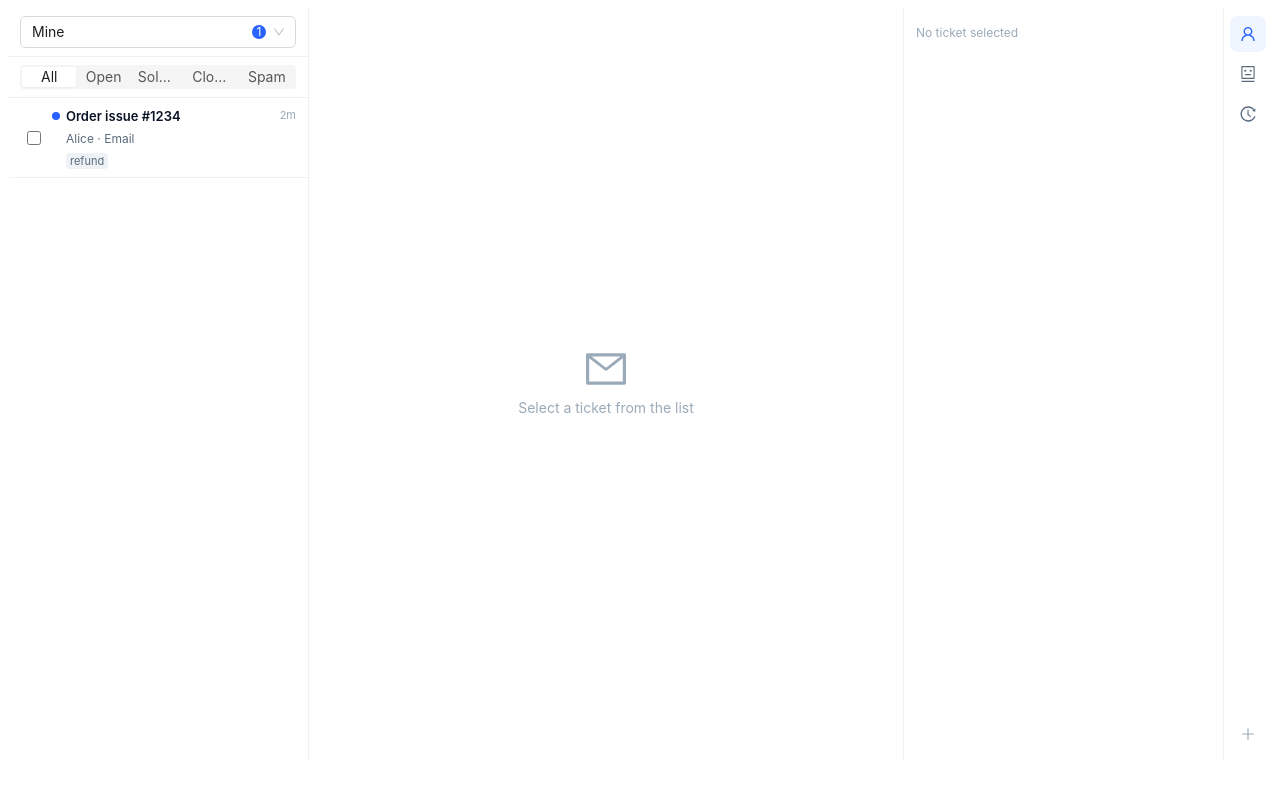
Test: InboxPage (3-column) › AI draft: shows suspended note when aiSuspended
The image size is (1280, 800).
Click the text "Order issue #1234".
click(123, 116)  # box [66,108,181,124]
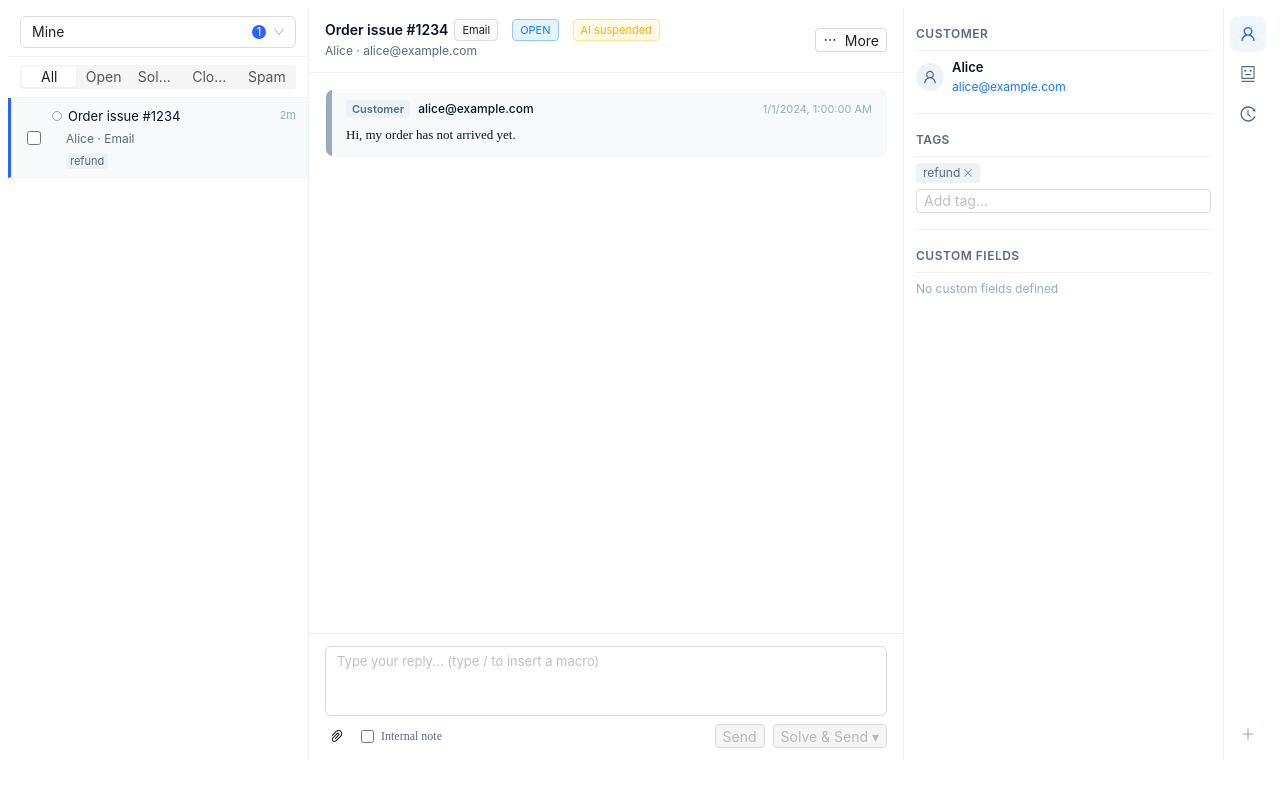
Expected: the text "AI suspended" is shown, [572,19,660,41]
